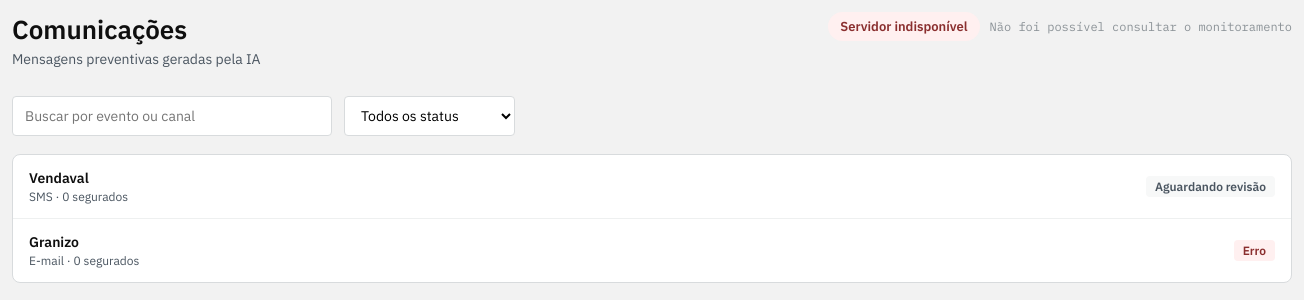
CommunicationsPage › filters the list by status
Check: the text "Vendaval" is shown, box [29,169,89,187]
Select "Erro" in the dropdown named "Filtrar por status" at (430, 116), box [344,96,515,136]
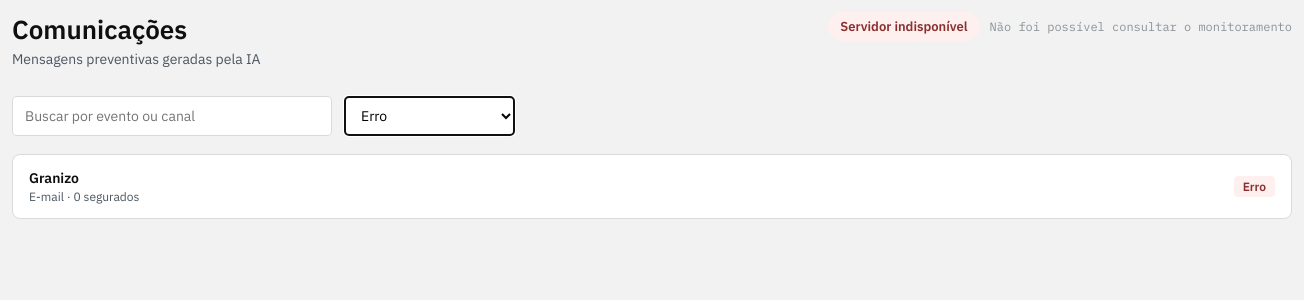
Check: the text "Granizo" is shown, box [29,169,79,187]
Check: the link "Vendaval" is gone
